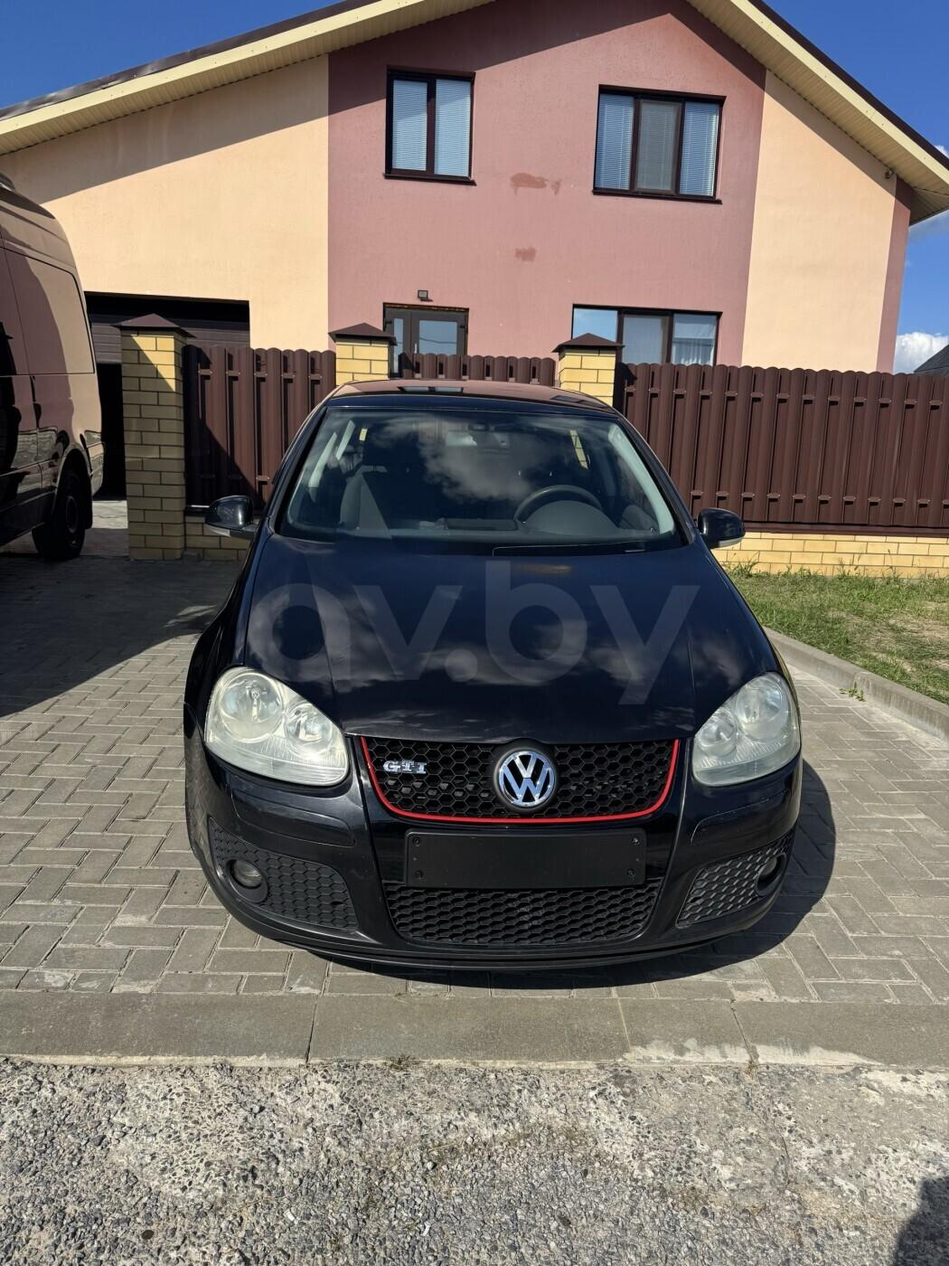Golf_2003-2009: (172, 364, 823, 977)
